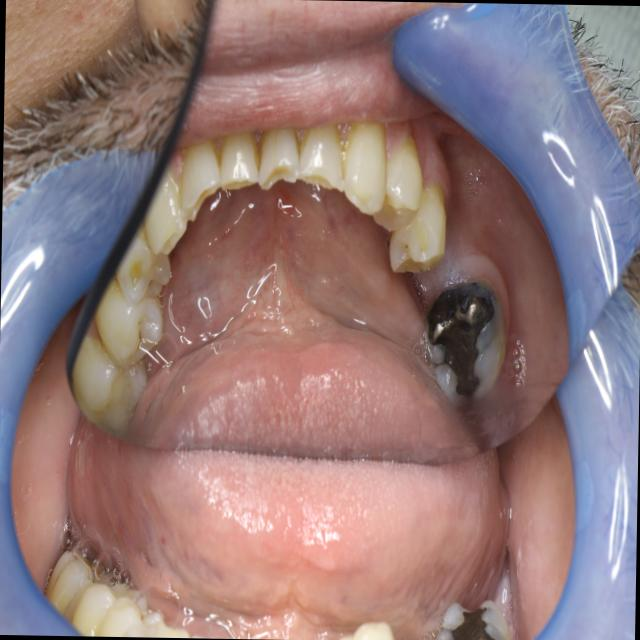tooth: (418, 266, 512, 415), (60, 322, 150, 442), (80, 260, 171, 377), (383, 178, 457, 284), (363, 125, 422, 238), (110, 221, 178, 307), (341, 108, 390, 223), (172, 137, 225, 229), (140, 162, 191, 256), (295, 113, 346, 201), (253, 116, 303, 203), (214, 122, 264, 201)
